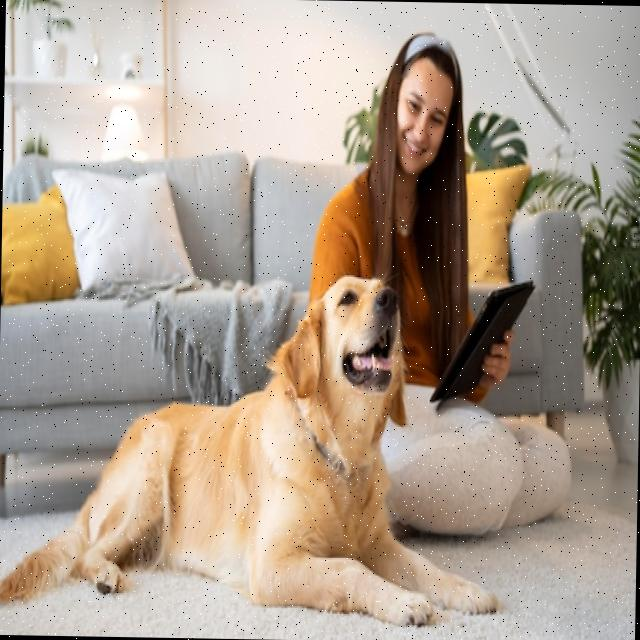Dog: (0, 267, 503, 628)
Person: (308, 28, 580, 538)
